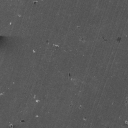corrosion: (115, 36, 122, 43), (53, 43, 59, 48), (35, 99, 39, 103)
